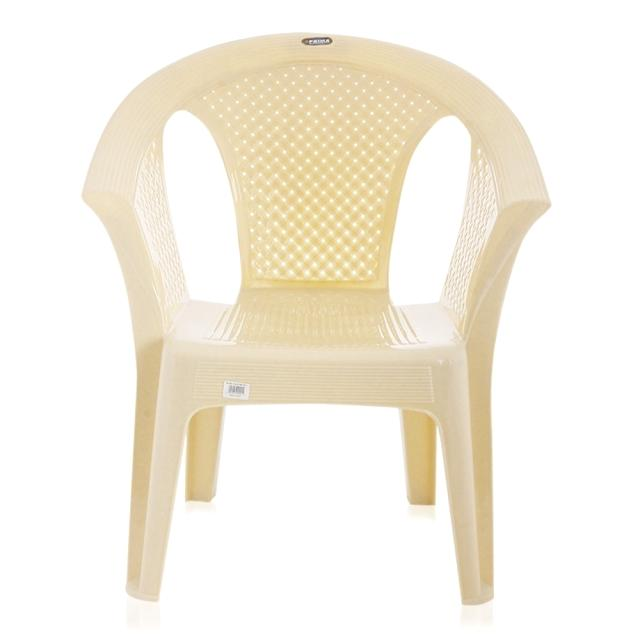Chair: (78, 33, 556, 617)
